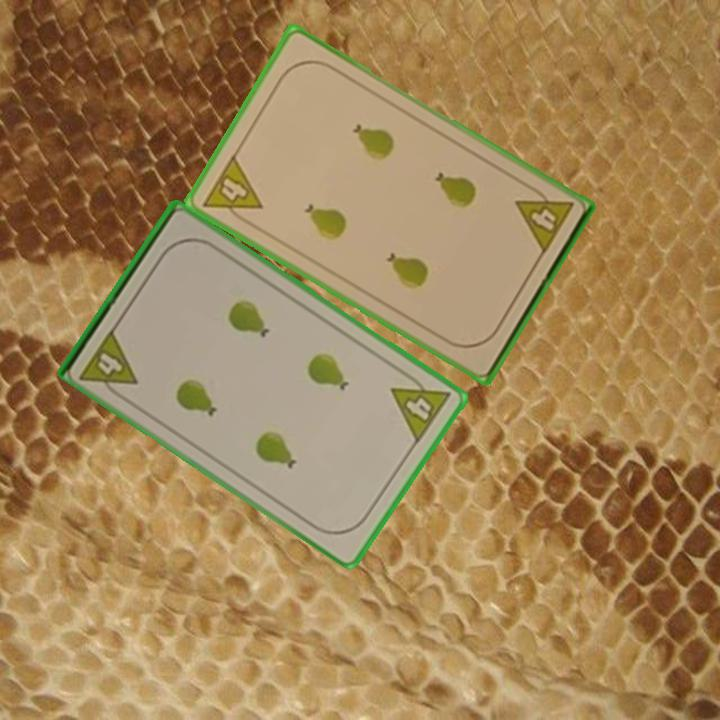4p: (387, 367, 454, 446), (199, 151, 265, 230), (76, 324, 141, 403), (511, 181, 576, 258)
